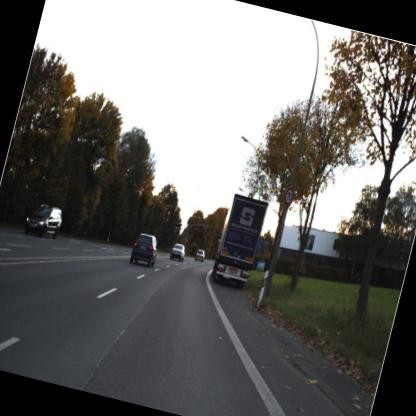prohibitory: (282, 184, 298, 208)
